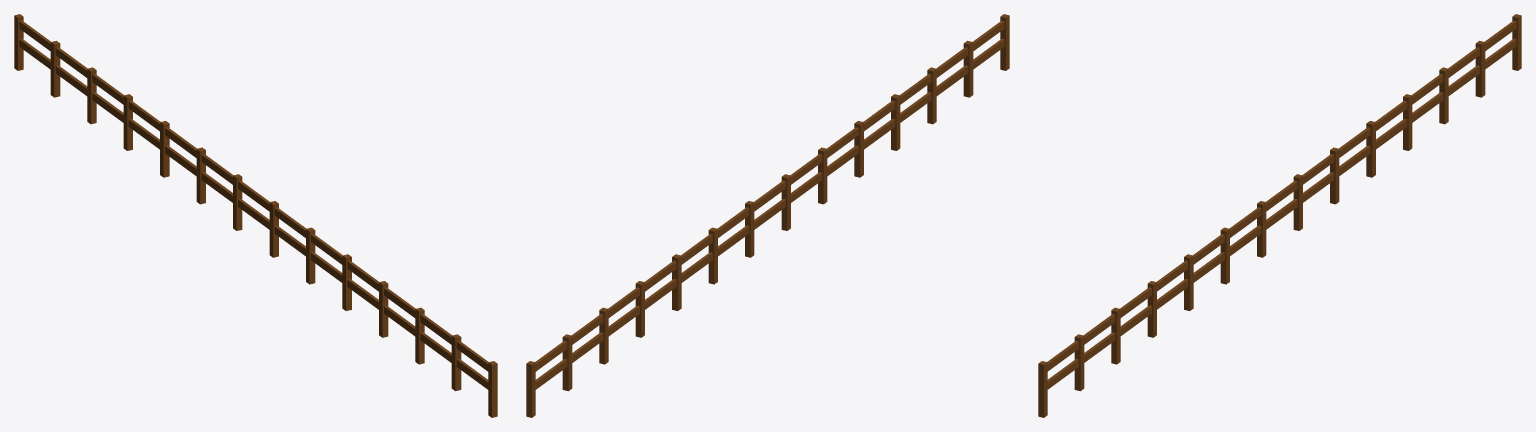
File: Fence_1.fbx
3 renders of one model, left to right at view 1: azimuth 30°, elevation 25°; view 2: azimuth 150°, elevation 25°; view 3: azimuth 330°, elevation 25°, orthographic.
Parts seen in each view (by area): view 1: Cube.011; view 2: Cube.011; view 3: Cube.011.
Part boxes in pixels (bbox=[...]): Cube.011: bbox=[14, 14, 497, 417]; Cube.011: bbox=[526, 14, 1009, 417]; Cube.011: bbox=[1038, 14, 1521, 417].
Size of the model in its own units: 39.2 by 344 by 5624.
